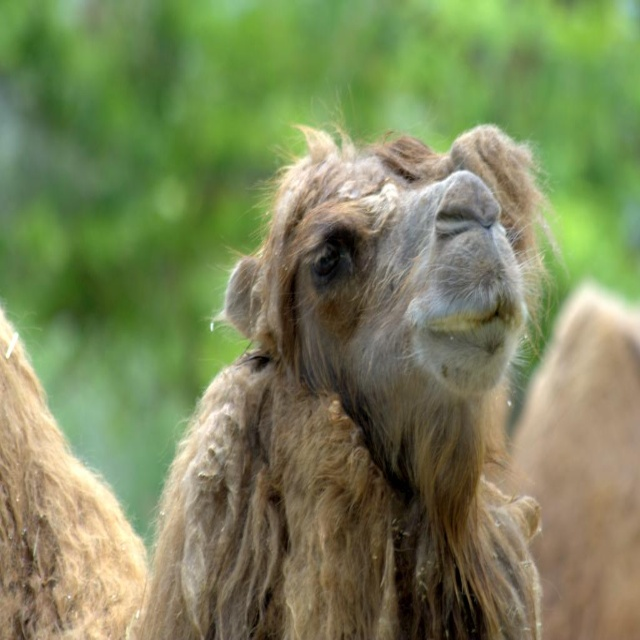Camel: (0, 76, 570, 639)
